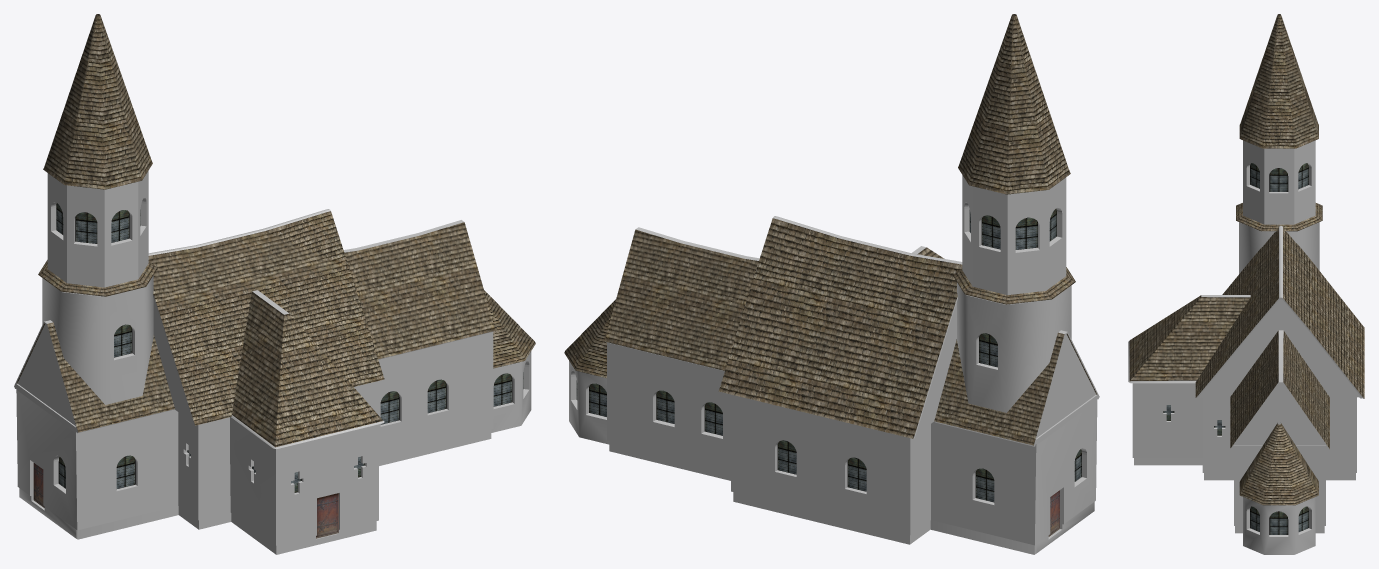
Rendered from f1_church_1_lod2.fbx.
3 views of the same model, side by side, from view 1: azimuth 30°, elevation 25°; view 2: azimuth 150°, elevation 25°; view 3: azimuth 270°, elevation 25° (orthographic). The views are drawn at different scales.
Parts seen in each view (by area): view 1: Mesh Object; view 2: Mesh Object; view 3: Mesh Object.
Boxes of the visible parts, x1,y1,x2,y2 form: Mesh Object: [14, 14, 535, 554]; Mesh Object: [564, 14, 1099, 554]; Mesh Object: [1128, 14, 1364, 554].
Bounding box in the file's own units: 19.32 × 18.97 × 10.66.
